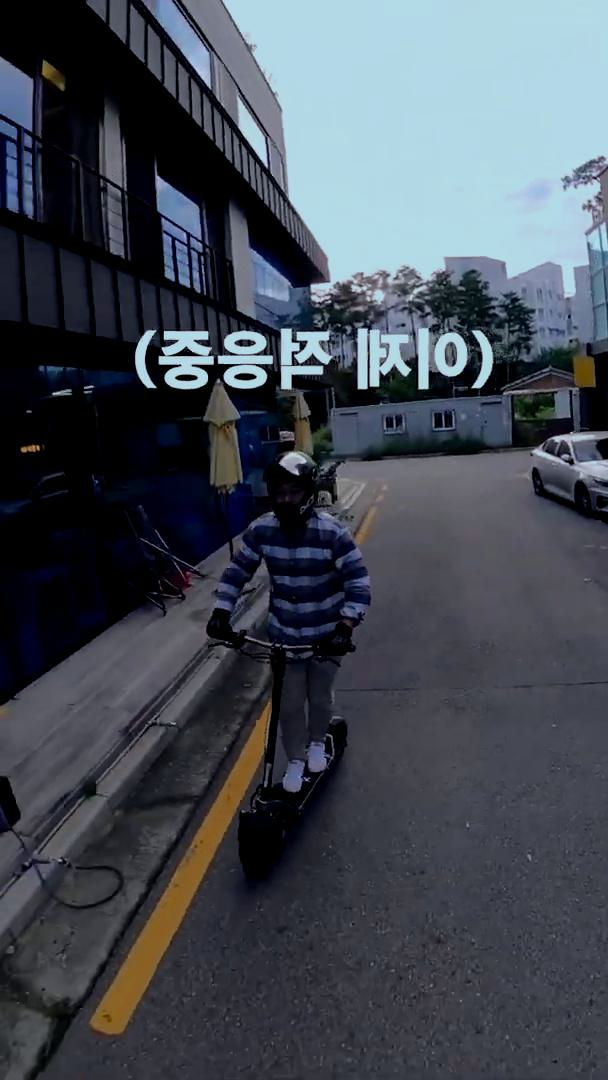helmet: (205, 448, 375, 886)
